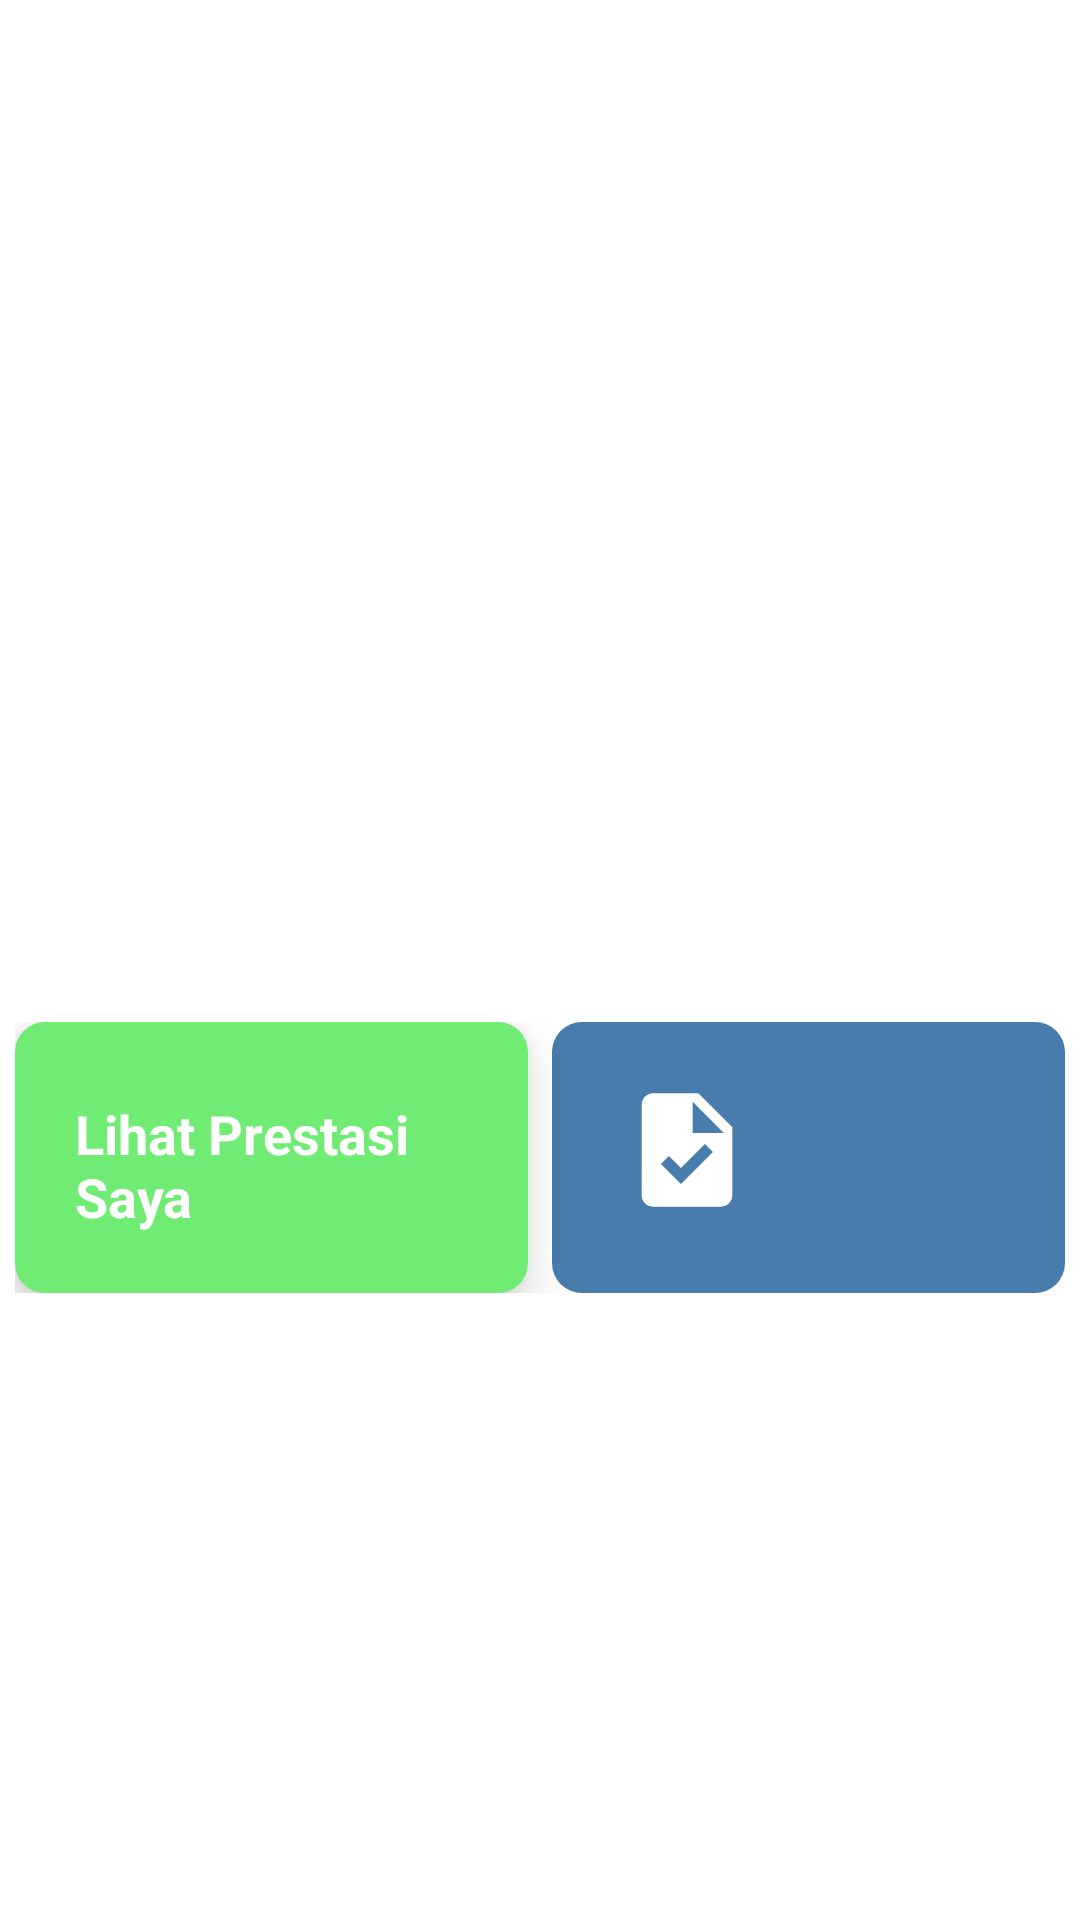

Point at icon controls on the screen. Image size 1080 x 1920, points as point (x, y).
task: point (687, 1150)
